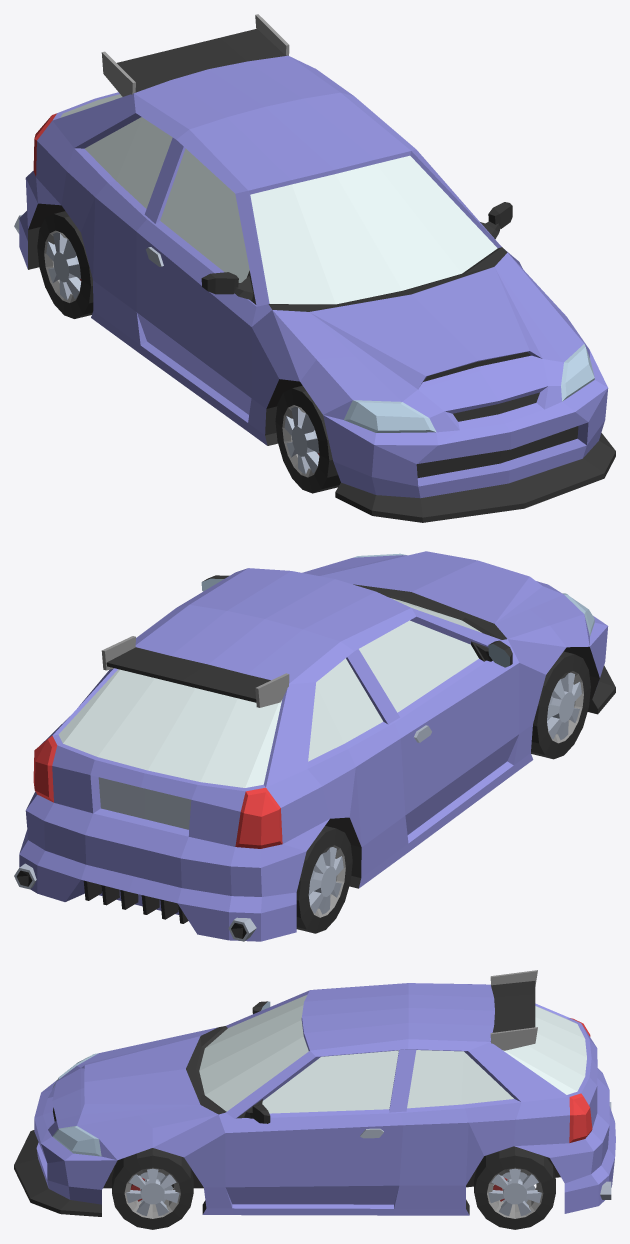
Rendered from civic.fbx.
3 renders of one model, top to bottom at view 1: azimuth 30°, elevation 25°; view 2: azimuth 150°, elevation 25°; view 3: azimuth 270°, elevation 25°, orthographic. The views are drawn at different scales.
Parts seen in each view (by area): view 1: civic_body, civic_tuning_1, civic_wheel_FR, civic_wheel_RR; view 2: civic_body, civic_tuning_1, civic_wheel_FR, civic_wheel_RR; view 3: civic_body, civic_tuning_1, civic_wheel_RL, civic_wheel_FL.
Part boxes in pixels (<box>): civic_body: <box>25,55,608,498</box>; civic_tuning_1: <box>14,14,615,522</box>; civic_wheel_FR: <box>275,385,340,493</box>; civic_wheel_RR: <box>37,211,93,318</box>; civic_body: <box>25,553,608,896</box>; civic_tuning_1: <box>14,551,615,941</box>; civic_wheel_FR: <box>531,651,590,759</box>; civic_wheel_RR: <box>296,826,352,933</box>; civic_body: <box>34,983,609,1204</box>; civic_tuning_1: <box>14,970,615,1216</box>; civic_wheel_RL: <box>474,1146,555,1229</box>; civic_wheel_FL: <box>112,1148,193,1229</box>.
Bounding box in the file's own units: 3.43 × 1.15 × 1.54.
